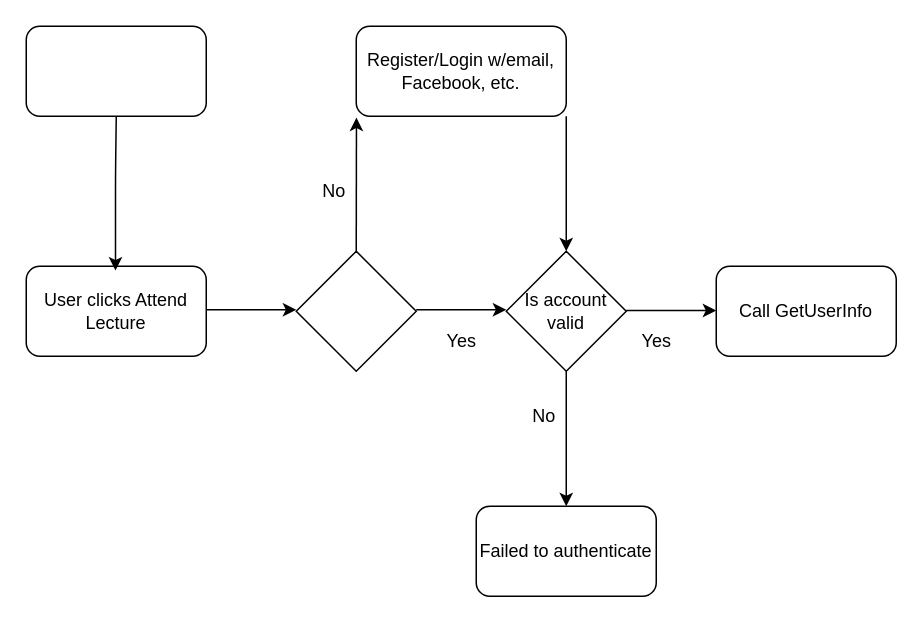
The diagram is 923 pixels wide and 623 high, and some of its shapes have lost their labels. The centre of each missing label's shape, as x and y in pixels:
App Start: point (115, 70)
Is user Logged in: point (355, 310)
